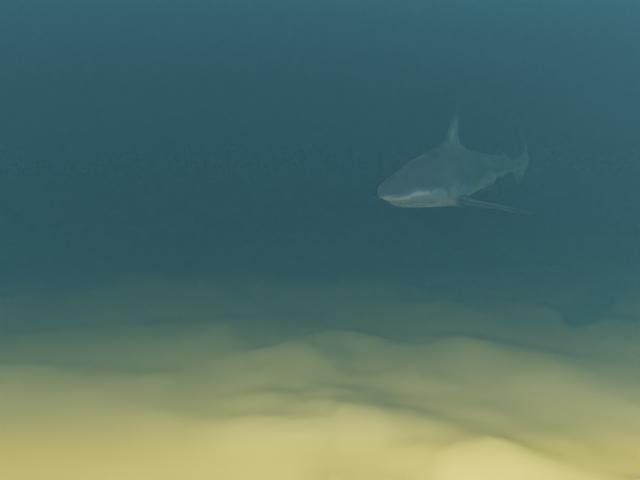Carribean Shark.001: (370, 111, 533, 213)
